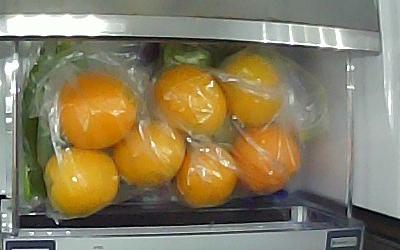orange_vinyl: (56, 70, 137, 149), (150, 63, 227, 134), (42, 144, 118, 215), (111, 118, 187, 186), (215, 52, 282, 125), (230, 124, 298, 193), (173, 140, 238, 208)
